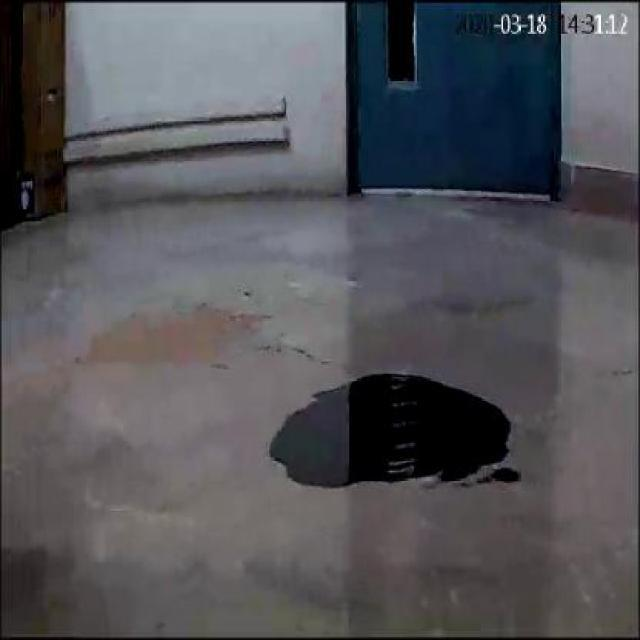spill: (268, 382, 518, 491)
